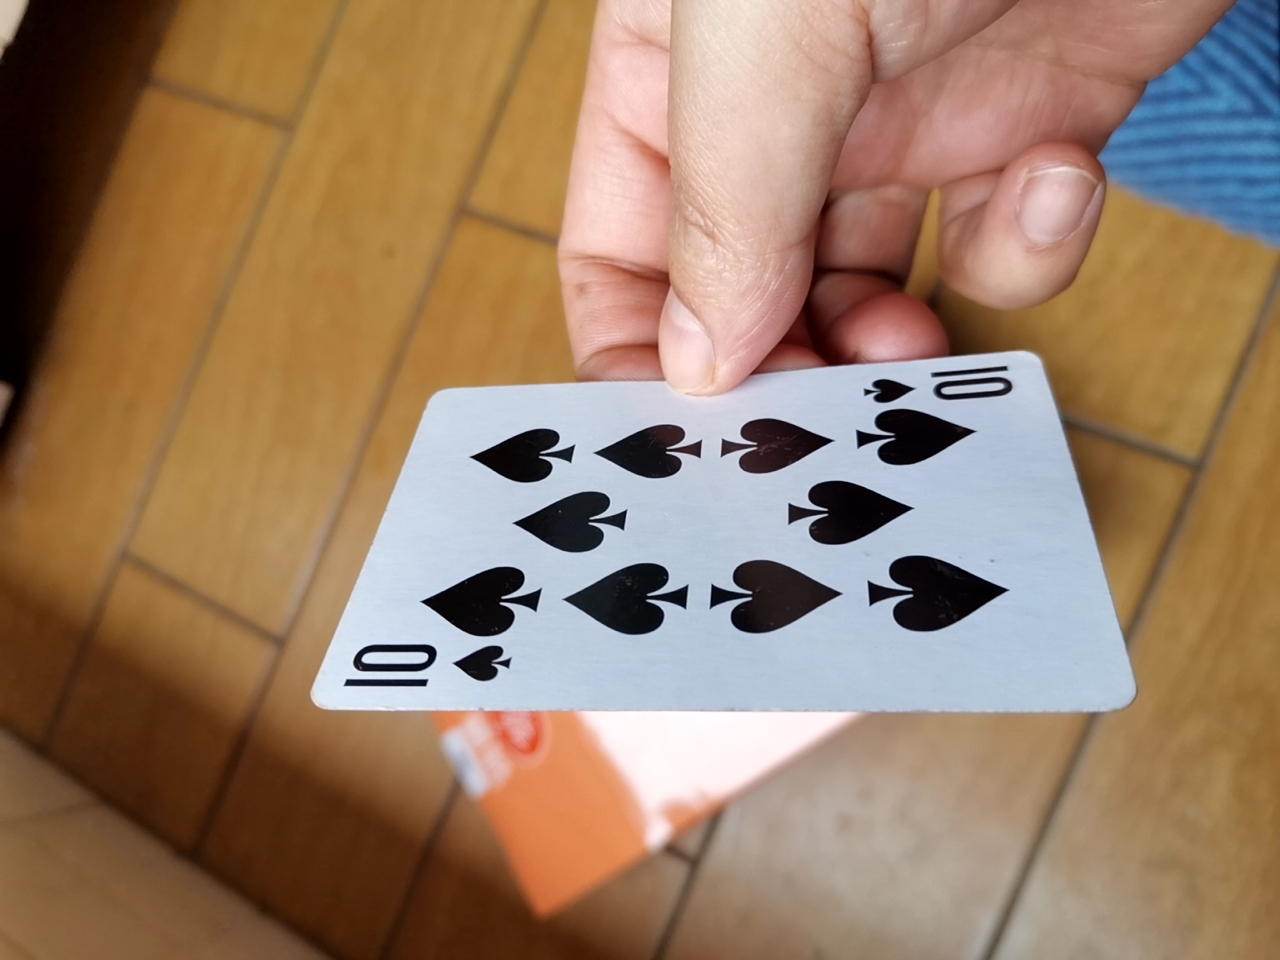ht 10: (271, 350, 1154, 735)
